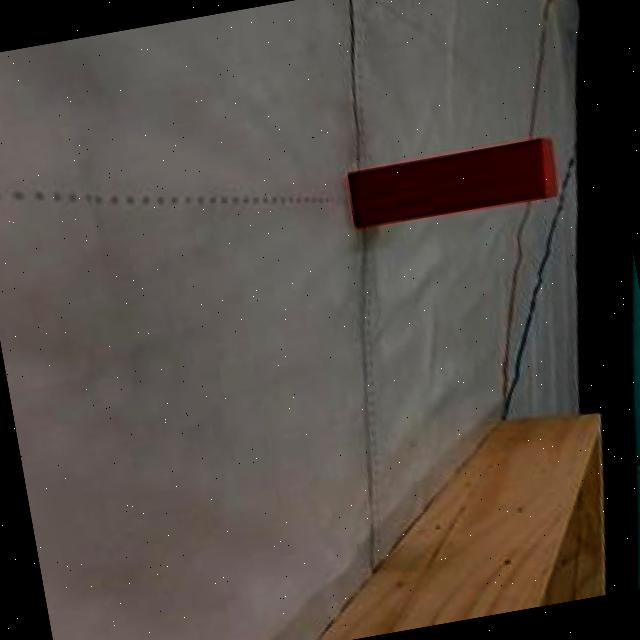redbox: (346, 135, 562, 228)
